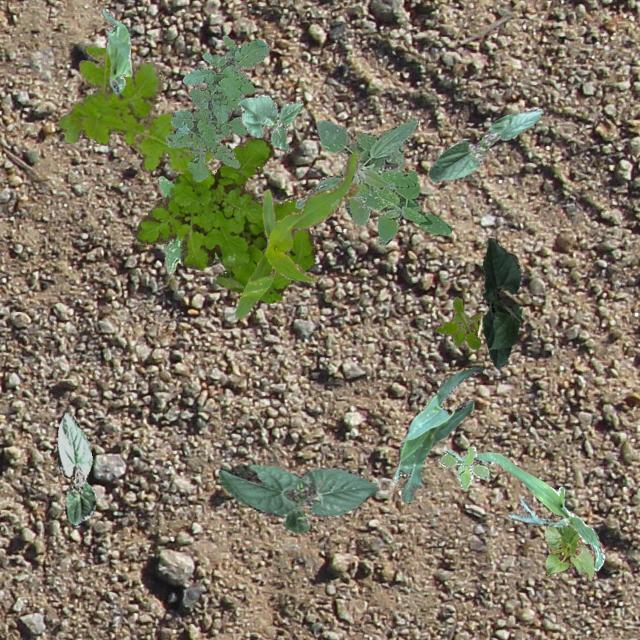crop: (234, 152, 358, 316), (475, 450, 603, 570), (294, 117, 418, 226), (392, 364, 482, 502), (218, 464, 378, 532), (426, 106, 540, 180), (480, 236, 520, 368), (56, 412, 94, 524), (236, 92, 302, 150), (544, 516, 594, 578), (102, 8, 130, 92)
weed: (133, 136, 314, 302), (58, 46, 214, 170), (165, 34, 268, 180), (156, 175, 234, 272), (352, 170, 450, 244), (434, 296, 480, 348), (436, 446, 488, 488)
